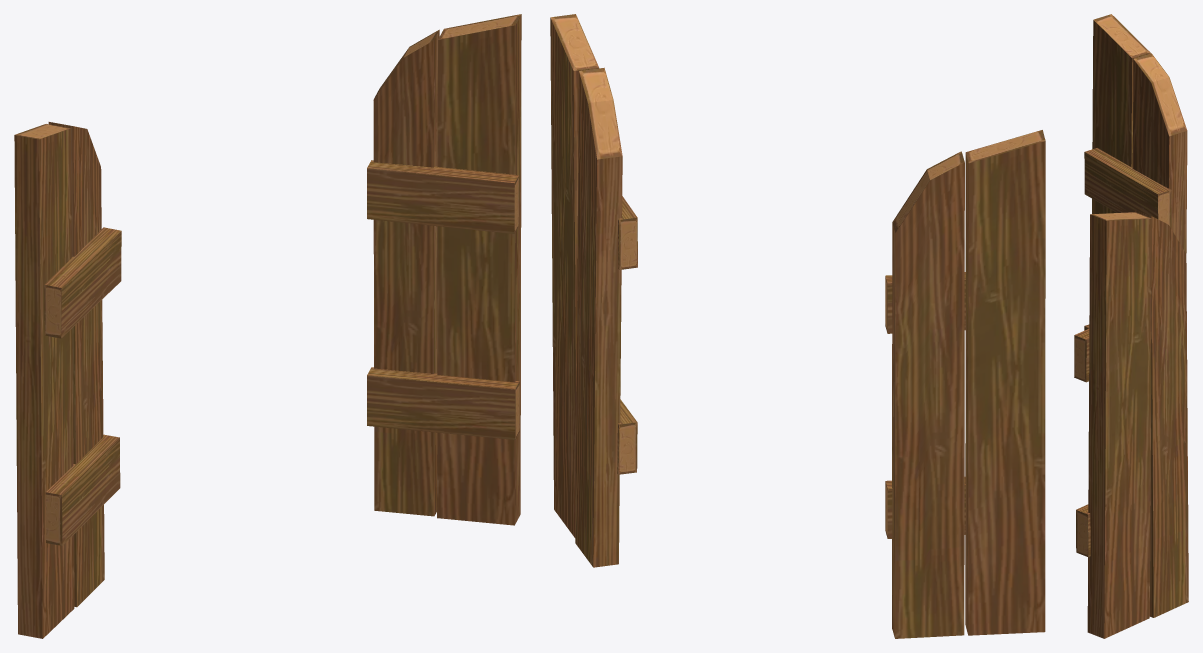
File: WindowShutters_Thin_Round_Open.gltf
3 renders of one model, left to right at view 1: azimuth 30°, elevation 25°; view 2: azimuth 150°, elevation 25°; view 3: azimuth 270°, elevation 25°, orthographic. The views are drawn at different scales.
Parts seen in each view (by area): view 1: WindowShutters_Thin_Round_Open; view 2: WindowShutters_Thin_Round_Open; view 3: WindowShutters_Thin_Round_Open.
Part boxes in pixels (x1,y1,x2,y2): WindowShutters_Thin_Round_Open: [14, 14, 521, 638]; WindowShutters_Thin_Round_Open: [550, 14, 1045, 638]; WindowShutters_Thin_Round_Open: [1074, 14, 1188, 638].
Size of the model in its own units: 1.61 by 1.52 by 0.3765.
1 material, 1 textured.
